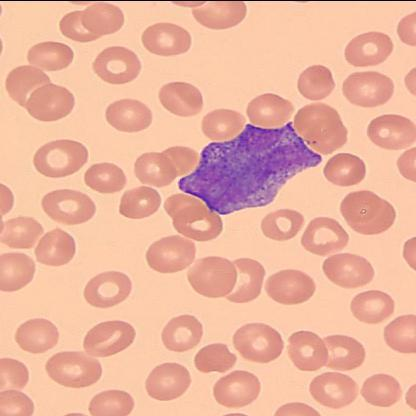Promyelocyte: (177, 120, 320, 214)
